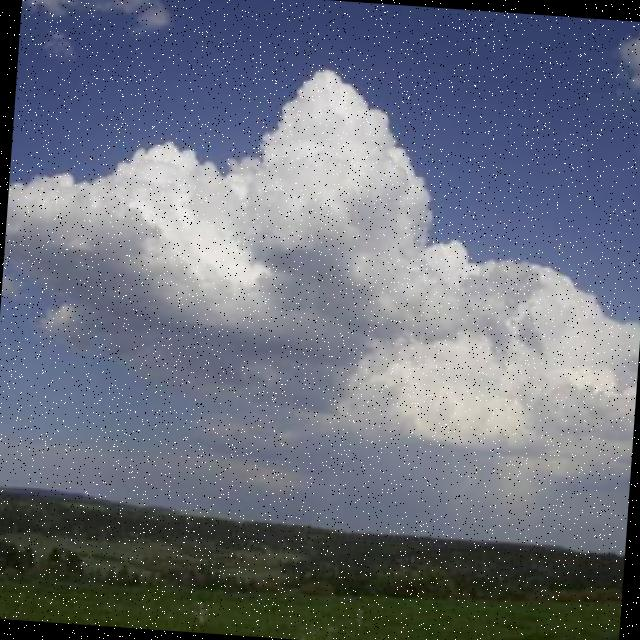Cu: (1, 40, 640, 504)
